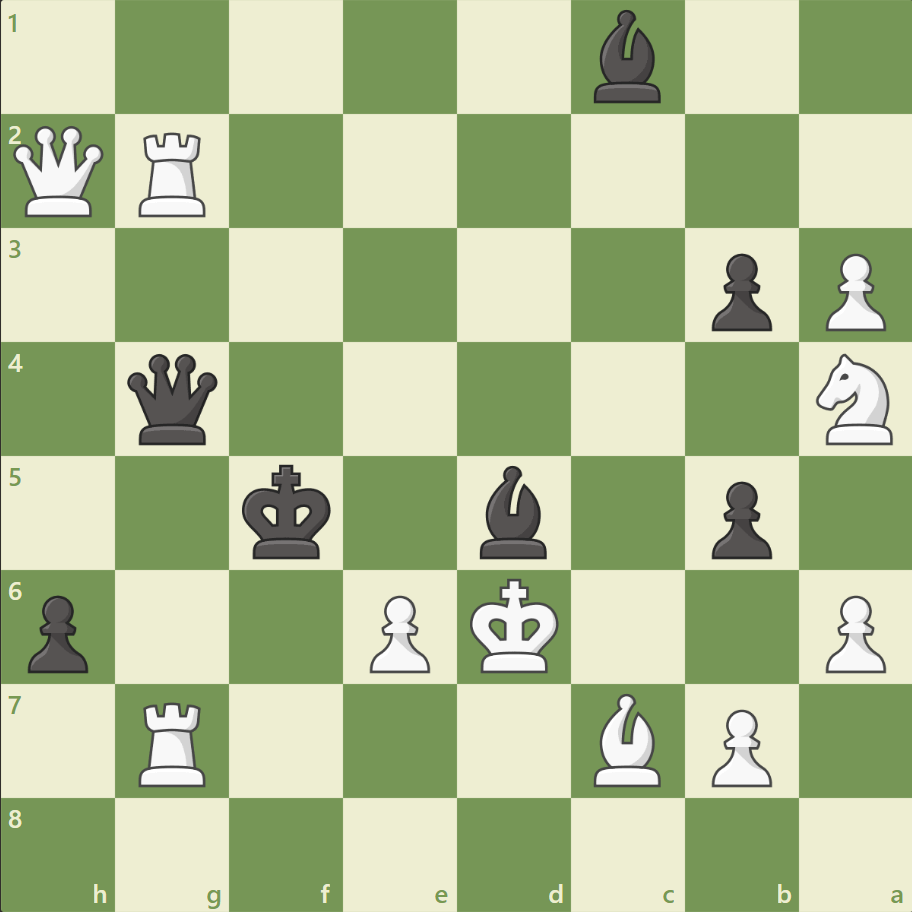B: (585, 687, 669, 790)
K: (465, 571, 565, 679)
N: (806, 348, 903, 450)
P: (701, 700, 776, 791), (815, 586, 889, 677), (361, 586, 435, 677), (815, 246, 889, 337)
Q: (10, 122, 109, 222)
R: (133, 693, 215, 790), (133, 125, 215, 222)
b: (471, 460, 555, 563), (585, 6, 669, 109)
k: (238, 458, 338, 566)
p: (20, 586, 95, 677), (701, 473, 776, 564), (701, 246, 776, 337)
q: (124, 349, 223, 449)
